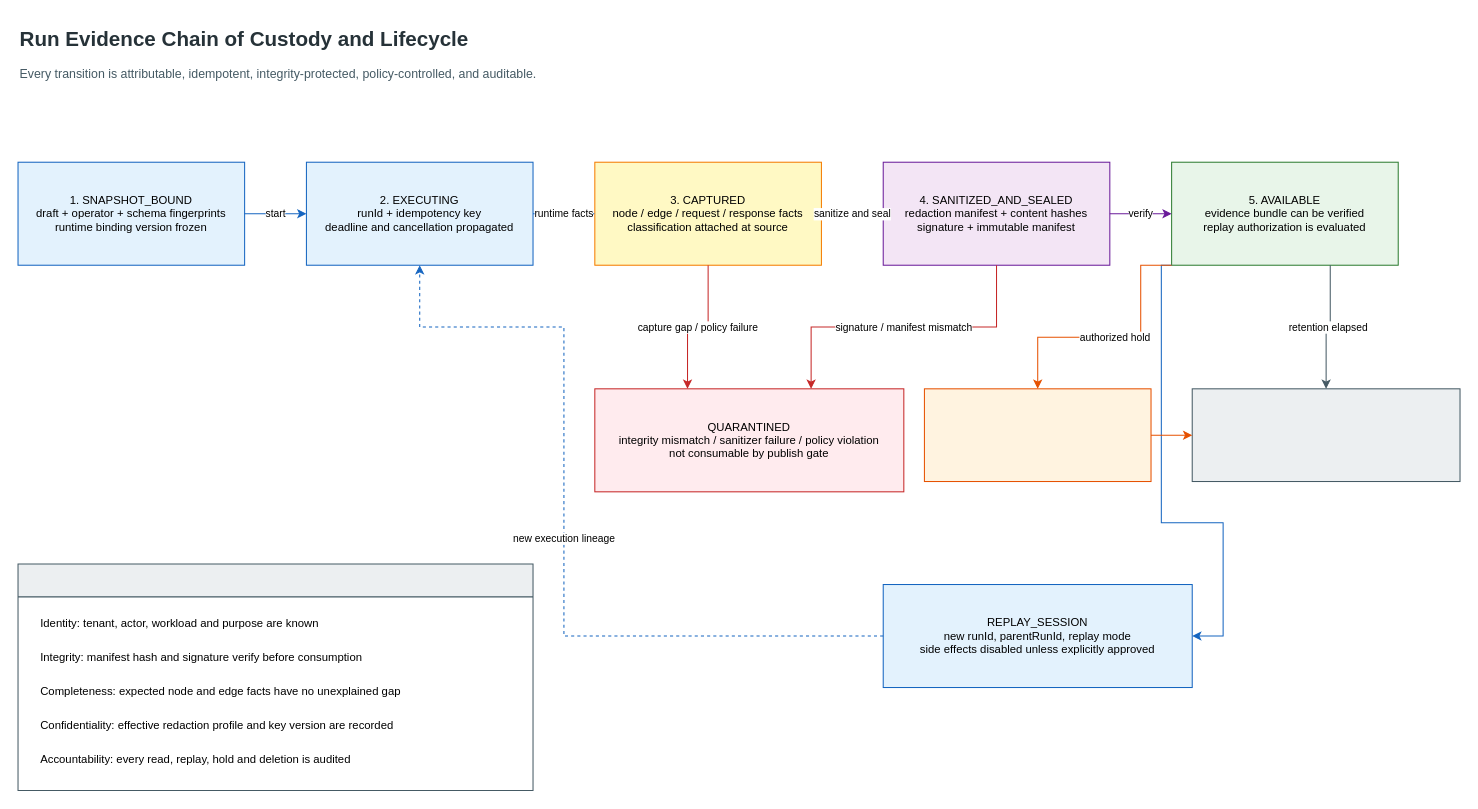
Image size: 1478x809. Some labels were removed from this diagram. The box of each missing label's shape, as (x1, y1, x2, y2) in pixels:
Evidence acceptance invariants: (17, 563, 533, 791)
EXPIRED payload deleted, manifest and audit tombstone retained: (1191, 388, 1460, 482)
LEGAL_HOLD retention freeze is authorized, scoped, and periodically reviewed: (923, 388, 1151, 482)
